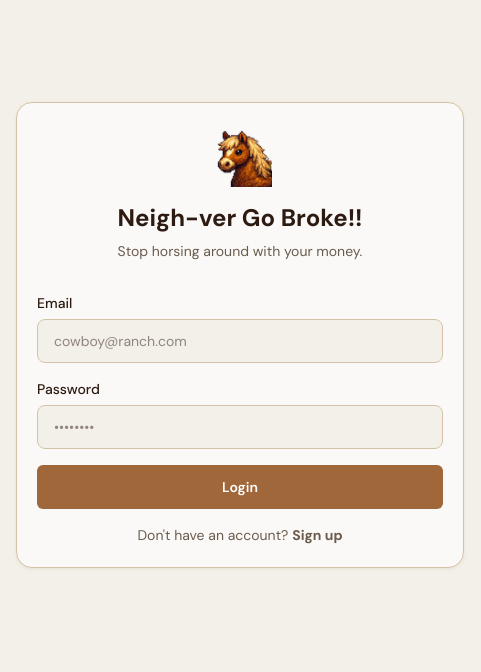
Test: LoginPage › switches to signup mode on toggle click
What coordinates should you click on to do the following:
click the text "Sign up"
I would click on:
 (317, 535)
Its box is 292,526 -> 343,544.
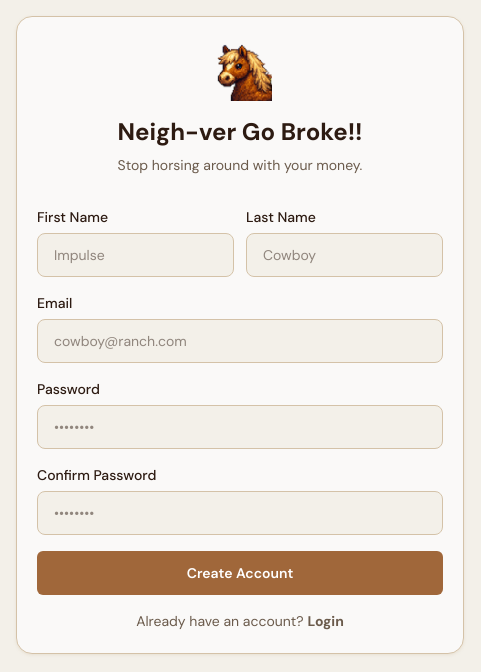
Check: the button "Create Account" is shown, box 37,551 -> 443,595
Check: the field labelled "First Name" is shown, box 37,233 -> 234,277
Check: the password field labelled "Confirm Password" is shown, box 37,491 -> 443,535
